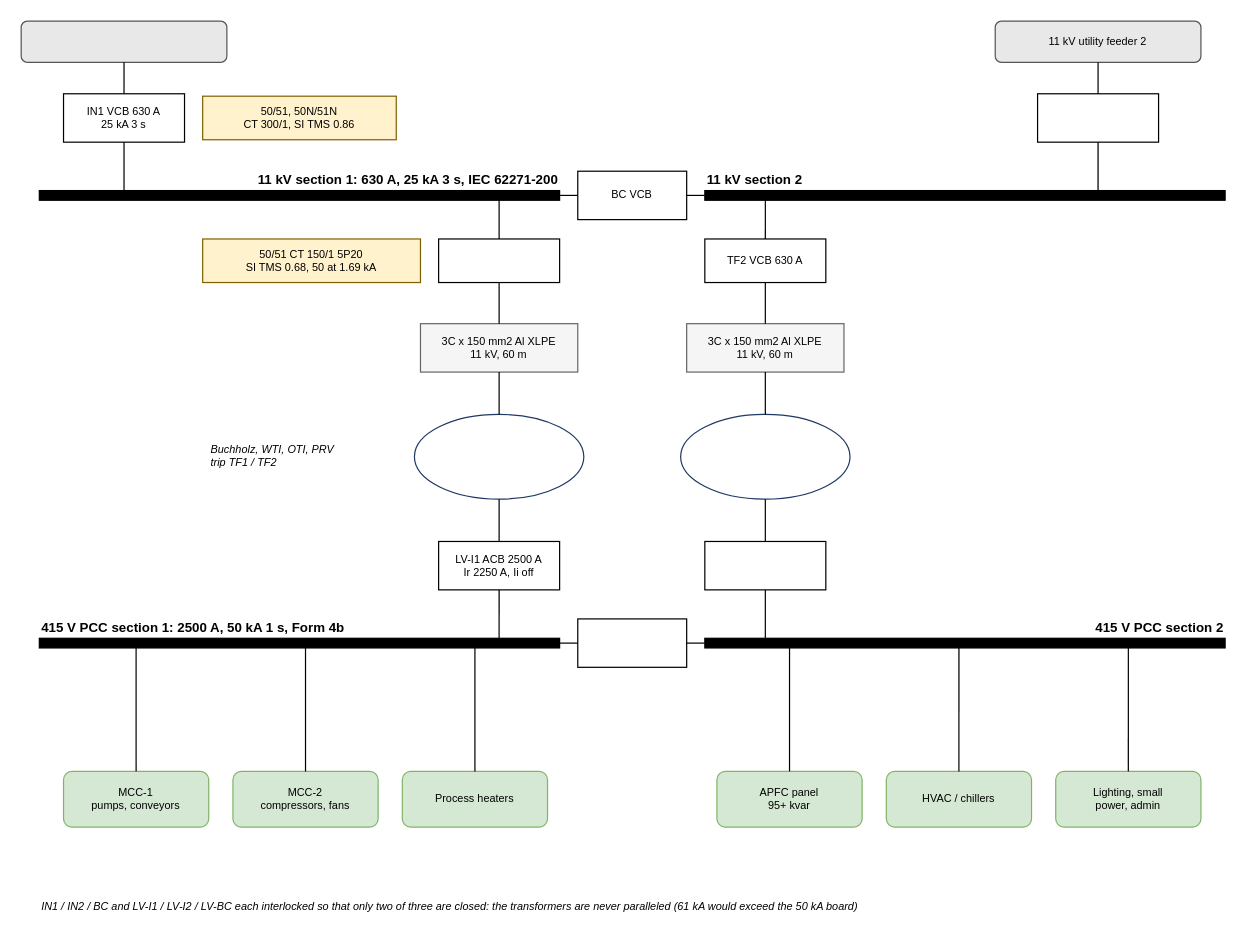
Image size: 1246x950. Some labels were removed from this diagram. Each missing label, with the box of its shape:
11 kV utility feeder 1: (20, 20, 227, 62)
IN2 VCB 630 A 25 kA 3 s: (1036, 93, 1159, 142)
LV-BC ACB 2500 A: (577, 618, 687, 667)
LV-I2 ACB 2500 A Ir 2250 A, Ii off: (704, 540, 826, 590)
TF1 VCB 630 A: (437, 238, 560, 283)
TR1 1600 kVA 11/0.433 kV Dyn11 uk 6.25 %: (413, 413, 584, 499)
TR2 1600 kVA 11/0.433 kV Dyn11 uk 6.25 %: (679, 413, 850, 499)
